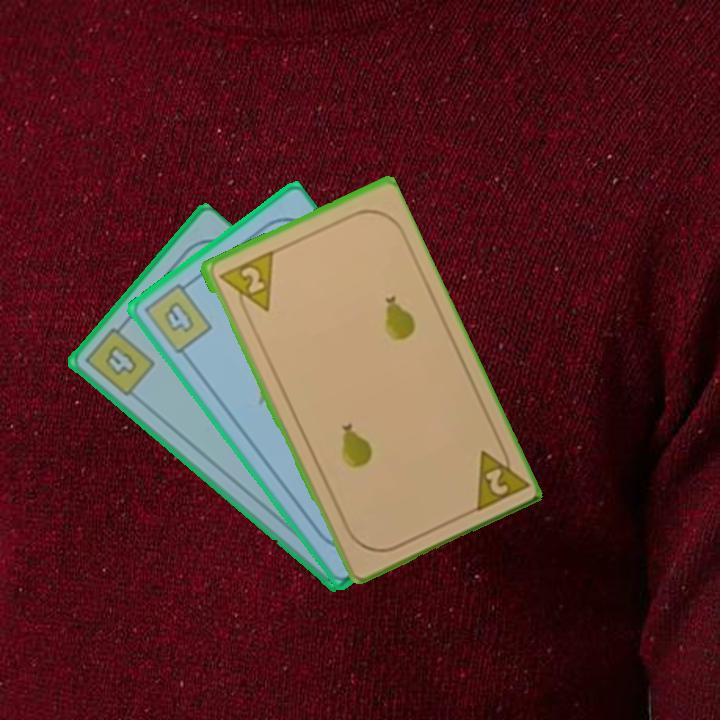2p: (467, 437, 529, 515), (213, 247, 276, 321)
4b: (81, 318, 158, 400), (139, 276, 215, 357)
